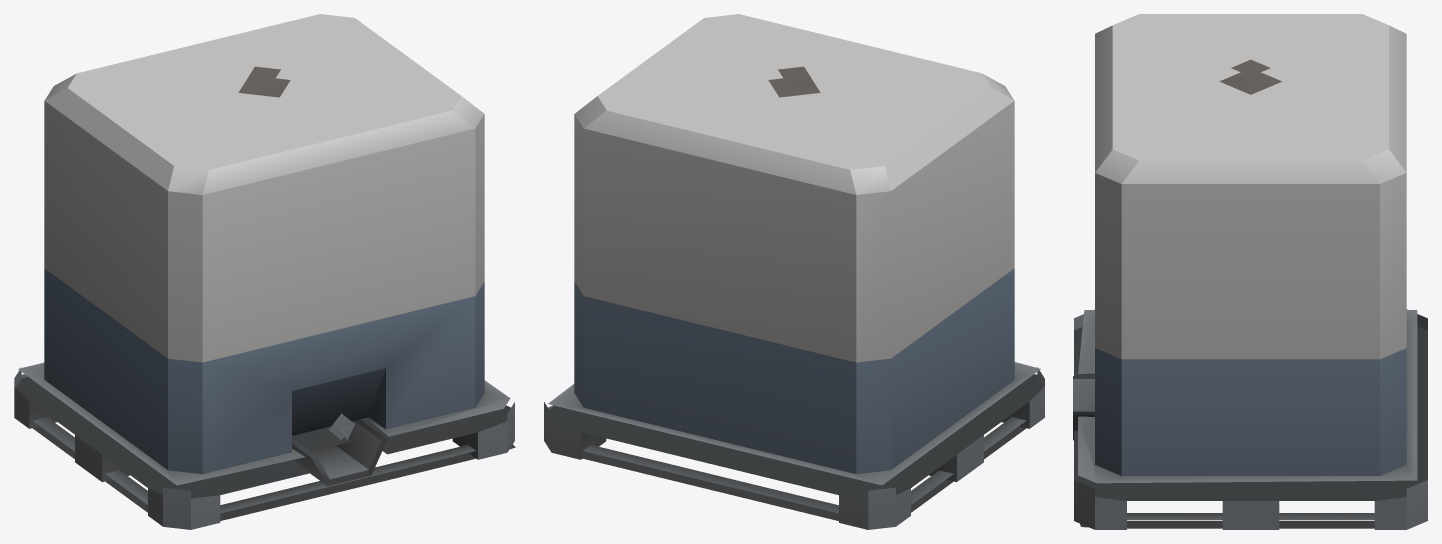
The model's file is ibc.lod.glb.
3 renders of one model, left to right at view 1: azimuth 30°, elevation 25°; view 2: azimuth 150°, elevation 25°; view 3: azimuth 270°, elevation 25°, orthographic. The views are drawn at different scales.
Parts seen in each view (by area): view 1: ibc; view 2: ibc; view 3: ibc.
Part boxes in pixels (box(x1,y1,x2,y2)): ibc: box(14, 14, 515, 529); ibc: box(544, 14, 1044, 529); ibc: box(1073, 14, 1427, 529).
Bounding box in the file's own units: 1.2 × 1.16 × 1.
